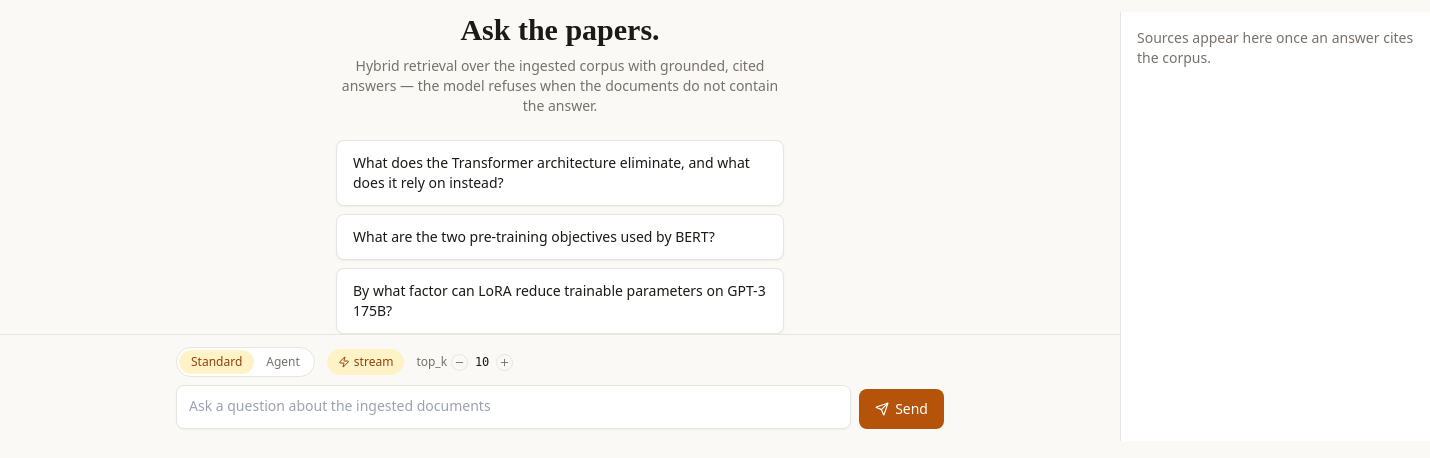
Test case: submitting a question renders the streamed answer
Type "hello" into the text box with placeholder "Ask a question about the ingested documents" at [514, 407], box [176,385,851,429]
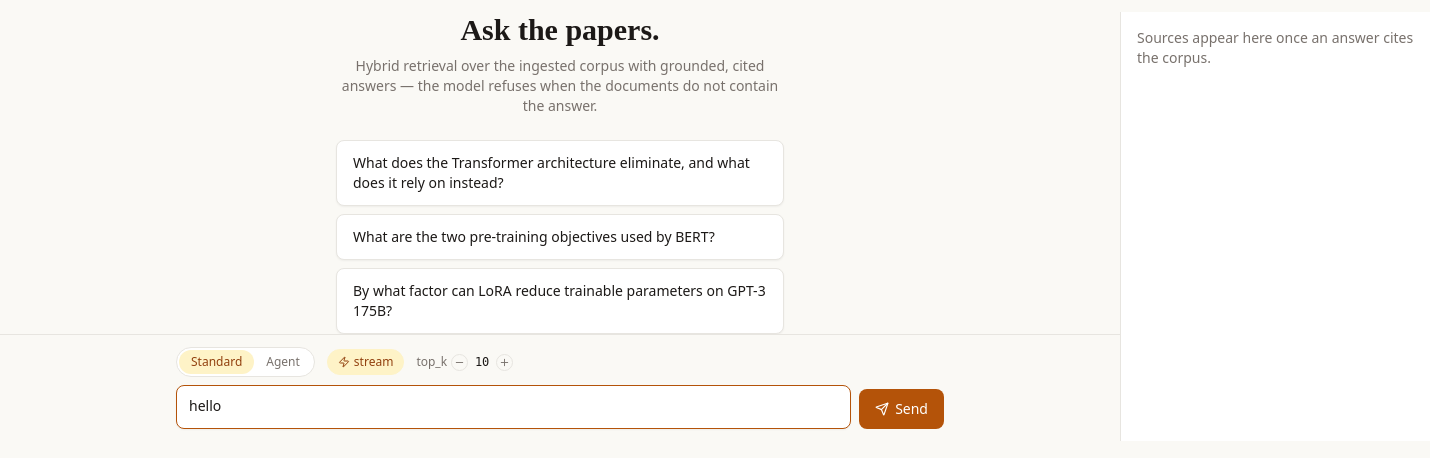
Click the button "Send" at [902, 409], box [859,389,944,429]
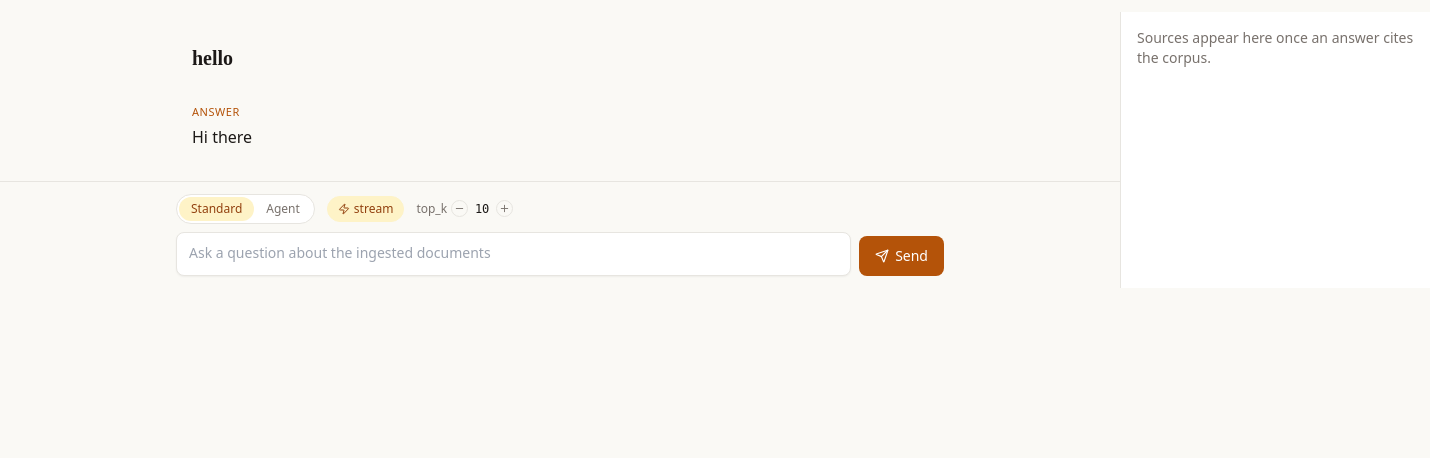
Now the text "Hi there" is shown, box [192,126,252,148]
